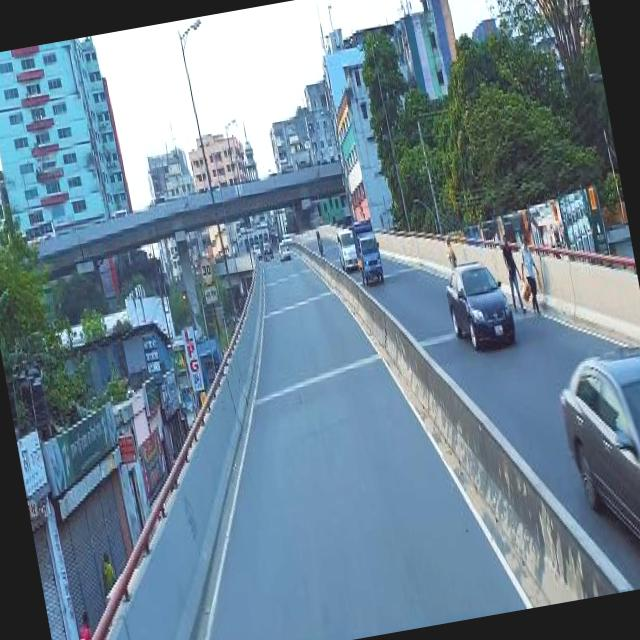car: (437, 252, 517, 354)
truck: (346, 211, 386, 289), (330, 220, 358, 273)
